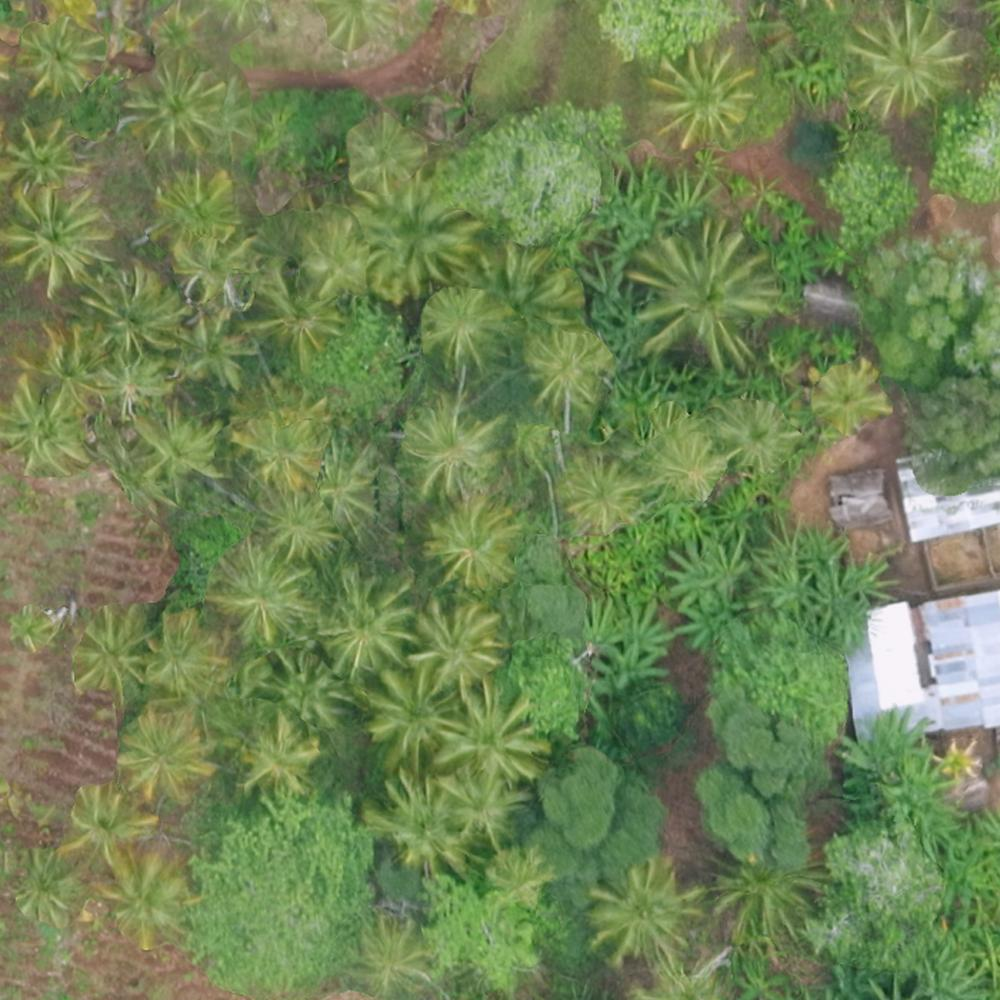Palm: (637, 233, 770, 362), (355, 183, 475, 296), (849, 7, 962, 113), (437, 683, 547, 784), (3, 190, 110, 292), (313, 568, 415, 672), (593, 864, 696, 963), (651, 43, 749, 145), (370, 663, 463, 766), (400, 397, 494, 493), (213, 549, 309, 643), (100, 855, 202, 943), (372, 772, 467, 866), (126, 65, 225, 155), (424, 498, 520, 589), (245, 265, 337, 358), (119, 709, 211, 802), (82, 265, 178, 352), (129, 404, 222, 493), (1, 380, 92, 469), (552, 447, 641, 534), (409, 600, 499, 686), (234, 405, 321, 493), (24, 316, 107, 406), (258, 647, 346, 731), (69, 608, 152, 696), (1, 117, 90, 198), (65, 783, 149, 868), (527, 325, 607, 412), (153, 169, 241, 247), (22, 16, 102, 100), (442, 763, 526, 843), (142, 612, 222, 694), (236, 717, 315, 799), (171, 310, 253, 386), (298, 222, 370, 305), (346, 114, 422, 191), (425, 290, 503, 365), (261, 489, 342, 561), (716, 401, 792, 477), (176, 306, 249, 384), (9, 851, 80, 930), (647, 425, 716, 500), (99, 343, 170, 415), (814, 363, 882, 431)
